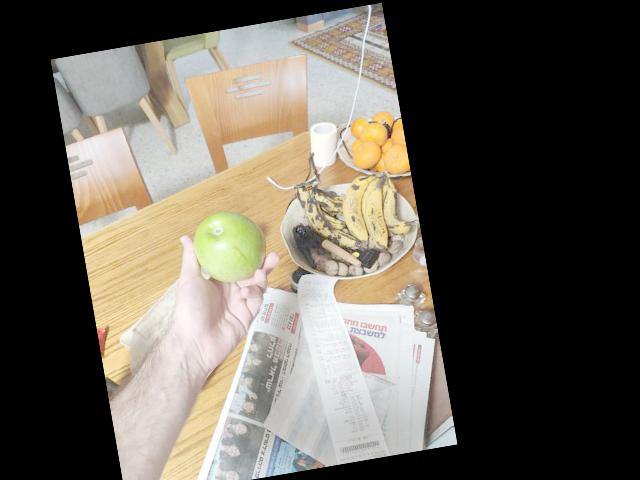apple: (186, 198, 273, 291)
